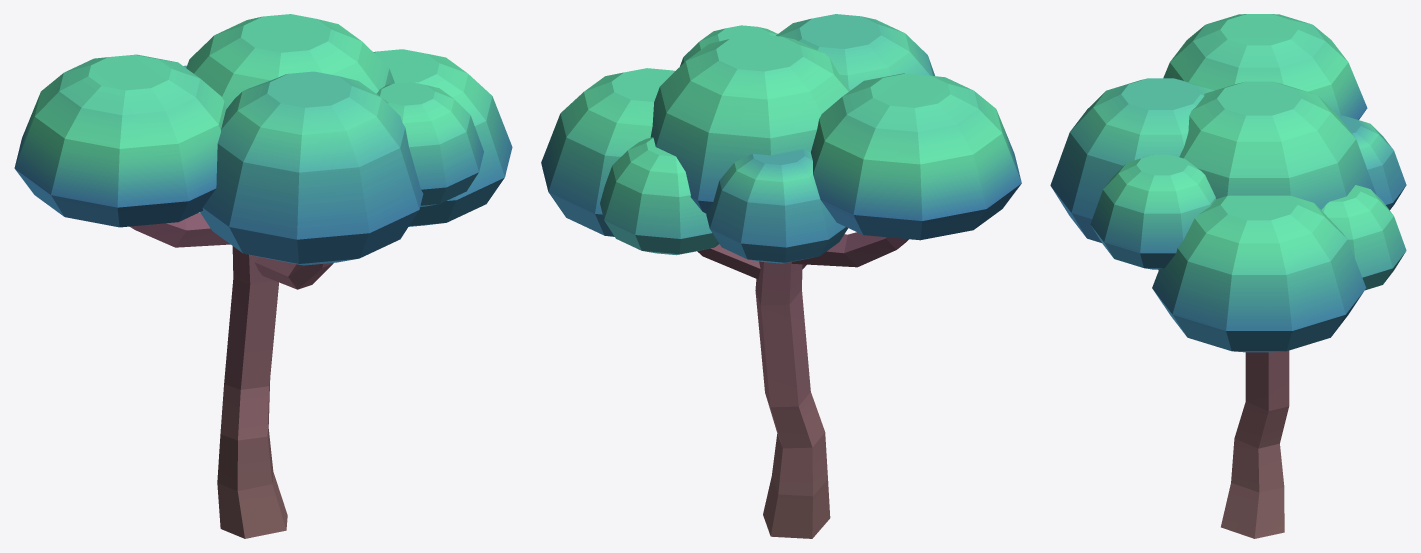
File: tree002.obj
The picture shows the model from 3 angles, left to right: view 1: azimuth 30°, elevation 25°; view 2: azimuth 150°, elevation 25°; view 3: azimuth 270°, elevation 25°; orthographic projection. The views are drawn at different scales.
Visible parts, largest first — view 1: tree.002; view 2: tree.002; view 3: tree.002.
Boxes of the visible parts, x1,y1,x2,y2 form: tree.002: (14,14,512,538); tree.002: (541,14,1021,538); tree.002: (1050,14,1406,538).
Size of the model in its own units: 15.11 by 15.16 by 10.99.
1 material, 1 textured.
